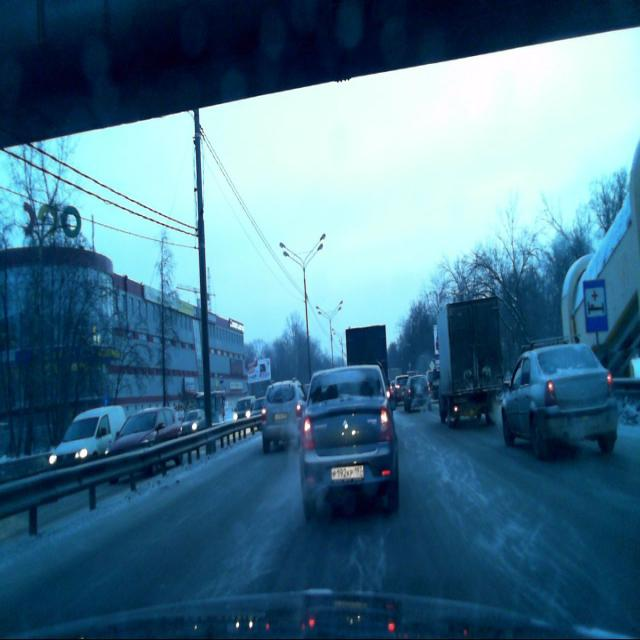road sign: (582, 278, 608, 335)
